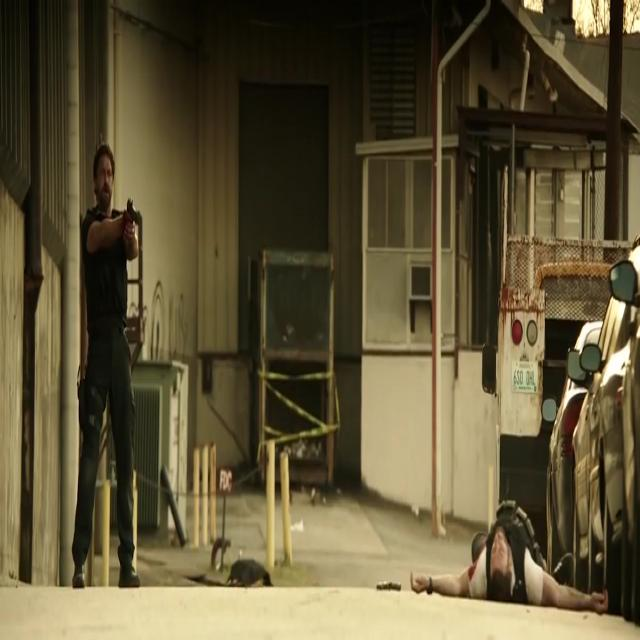Weapon: (120, 198, 146, 238)
